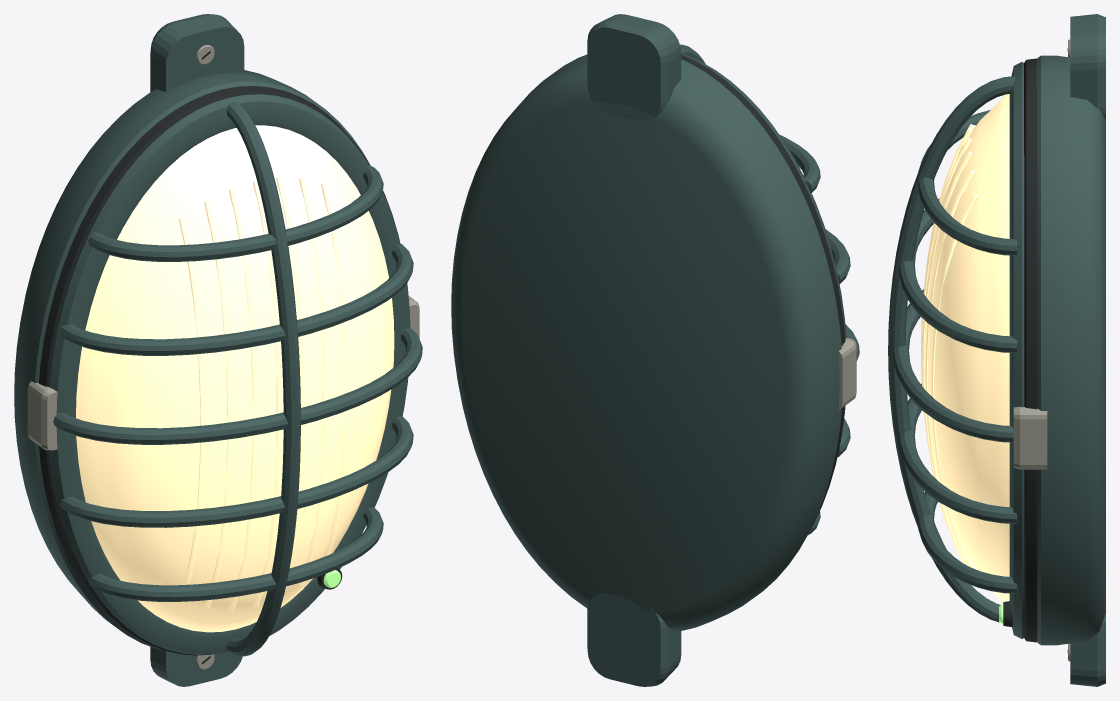
The picture shows the model from 3 angles, left to right: view 1: azimuth 30°, elevation 25°; view 2: azimuth 150°, elevation 25°; view 3: azimuth 270°, elevation 25°; orthographic projection.
Parts seen in each view (by area): view 1: Fixture; view 2: Fixture; view 3: Fixture.
Boxes of the visible parts, x1,y1,x2,y2 form: Fixture: [14, 14, 422, 686]; Fixture: [451, 14, 859, 686]; Fixture: [888, 14, 1105, 686].
Size of the model in its own units: 0.207 by 0.343 by 0.104.
